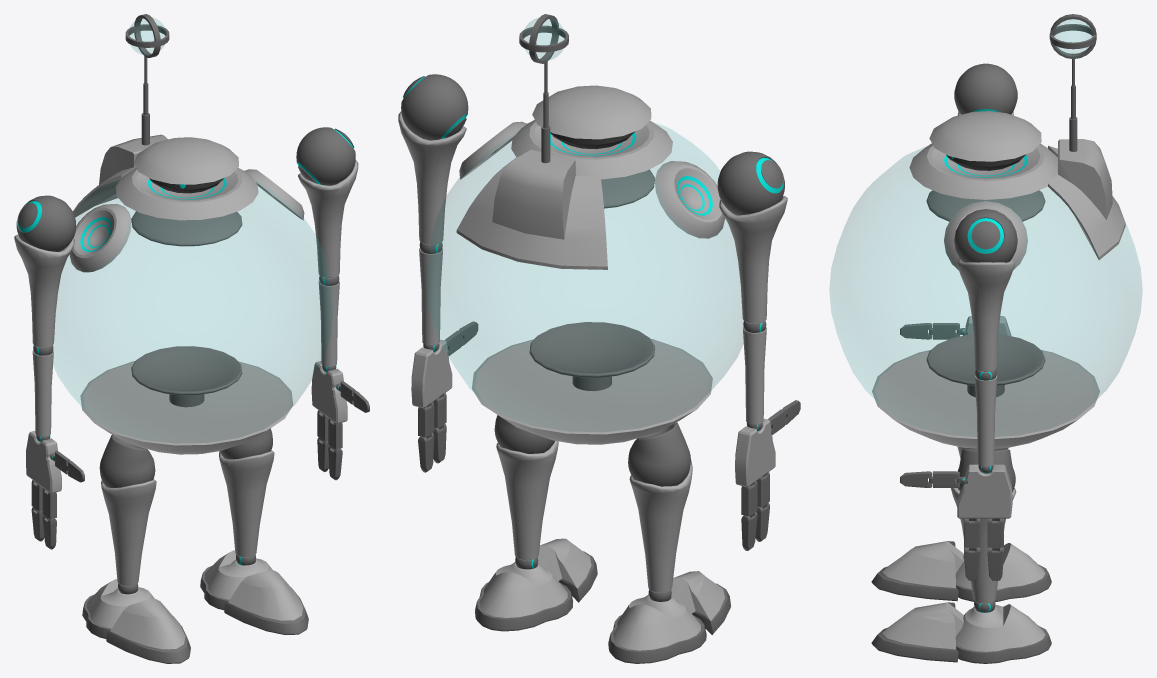
File: Kyara.fbx
The picture shows the model from 3 angles, left to right: view 1: azimuth 30°, elevation 25°; view 2: azimuth 150°, elevation 25°; view 3: azimuth 270°, elevation 25°; orthographic projection. The views are drawn at different scales.
Parts seen in each view (by area): view 1: polySurface81, polySurface79, polySurface83, polySurface88, polySurface71, polySurface90, polySurface70, polySurface42, polySurface84, polySurface58, polySurface60, polySurface78 (+12 smaller); view 2: polySurface81, polySurface79, polySurface83, polySurface89, polySurface75, polySurface90, polySurface70, polySurface42, polySurface84, polySurface58, polySurface60, polySurface44 (+13 smaller); view 3: polySurface81, polySurface83, polySurface75, polySurface79, polySurface71, polySurface88, polySurface58, polySurface60, polySurface44, polySurface61, polySurface89, polySurface78 (+14 smaller).
Boxes of the visible parts, x1,y1,x2,y2 form: polySurface81: (53,134,332,454); polySurface79: (131,346,242,407); polySurface83: (134,137,238,193); polySurface88: (106,599,190,663); polySurface71: (224,570,308,634); polySurface90: (101,479,156,586); polySurface70: (219,450,274,557); polySurface42: (14,234,74,347); polySurface84: (69,204,131,272); polySurface58: (298,160,358,278); polySurface60: (296,127,355,185); polySurface78: (131,211,242,246); polySurface81: (427,120,743,444); polySurface79: (529,322,654,391); polySurface83: (532,85,651,149); polySurface89: (608,594,706,663); polySurface75: (475,562,572,631); polySurface90: (629,460,692,592); polySurface70: (496,441,558,560); polySurface42: (719,196,787,323); polySurface84: (655,161,724,238); polySurface58: (398,111,466,244); polySurface60: (401,74,468,140); polySurface44: (717,151,784,215); polySurface81: (829,139,1142,448); polySurface83: (929,111,1041,170); polySurface75: (955,604,1051,663); polySurface79: (926,334,1045,397); polySurface71: (871,602,963,662); polySurface88: (871,541,963,601); polySurface58: (957,258,1014,372); polySurface60: (954,209,1017,262); polySurface44: (954,63,1017,114); polySurface61: (957,464,1012,518); polySurface89: (955,543,1051,601); polySurface78: (926,190,1045,221).
Bounding box in the file's own units: 2.12 × 3.37 × 1.6.
